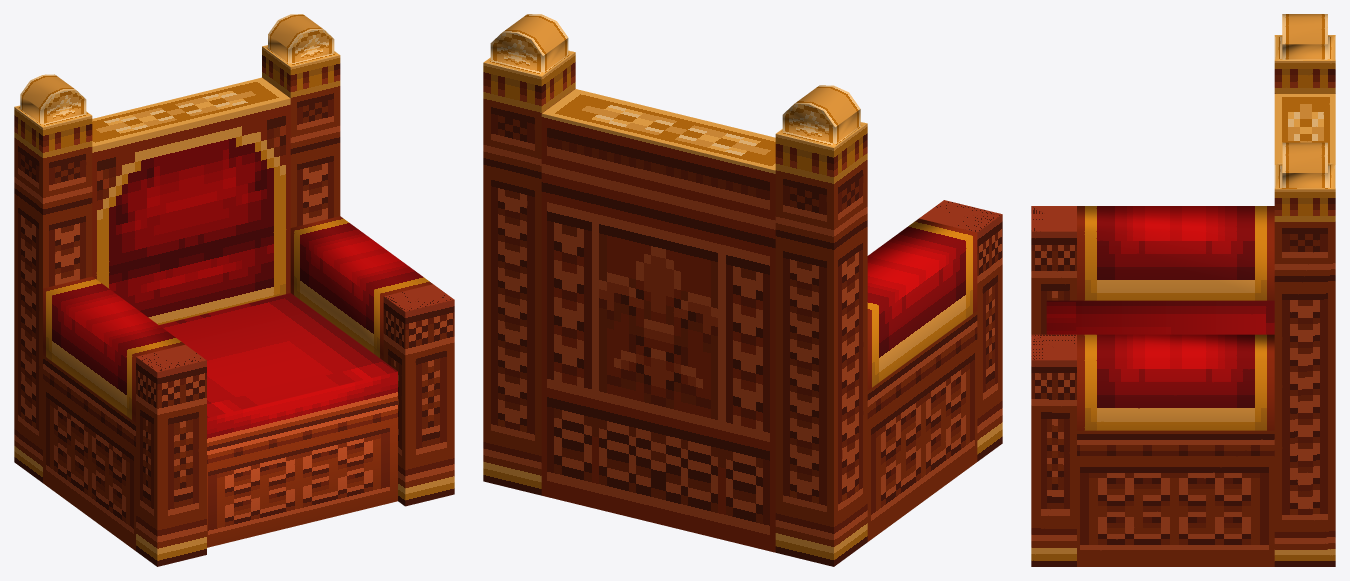
Rendered from King's Throne.obj.
3 views of the same model, side by side, from view 1: azimuth 30°, elevation 25°; view 2: azimuth 150°, elevation 25°; view 3: azimuth 270°, elevation 25° (orthographic). The views are drawn at different scales.
Parts seen in each view (by area): view 1: polygon0, polygon2, polygon1, polygon3; view 2: polygon0, polygon1, polygon2, polygon3; view 3: polygon0, polygon2, polygon1, polygon3.
Part boxes in pixels (x1,y1,x2,y2): polygon0: [43, 98, 432, 422]; polygon2: [43, 284, 454, 566]; polygon1: [14, 46, 340, 482]; polygon3: [14, 14, 339, 146]; polygon0: [541, 113, 977, 552]; polygon1: [483, 52, 867, 566]; polygon2: [867, 200, 1002, 541]; polygon3: [484, 14, 867, 170]; polygon0: [1046, 206, 1274, 430]; polygon2: [1031, 206, 1274, 566]; polygon1: [1274, 61, 1335, 566]; polygon3: [1274, 14, 1335, 189].
Bounding box in the file's own units: 2.4 × 2.96 × 2.
4 materials, 4 textured.
